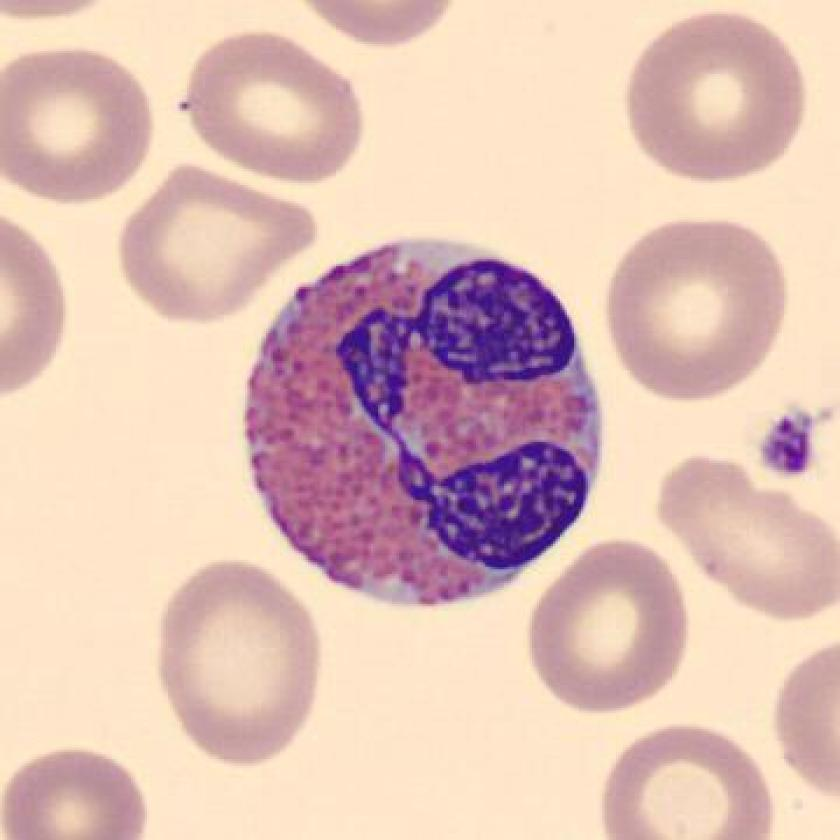eosinophil: (230, 223, 608, 626)
